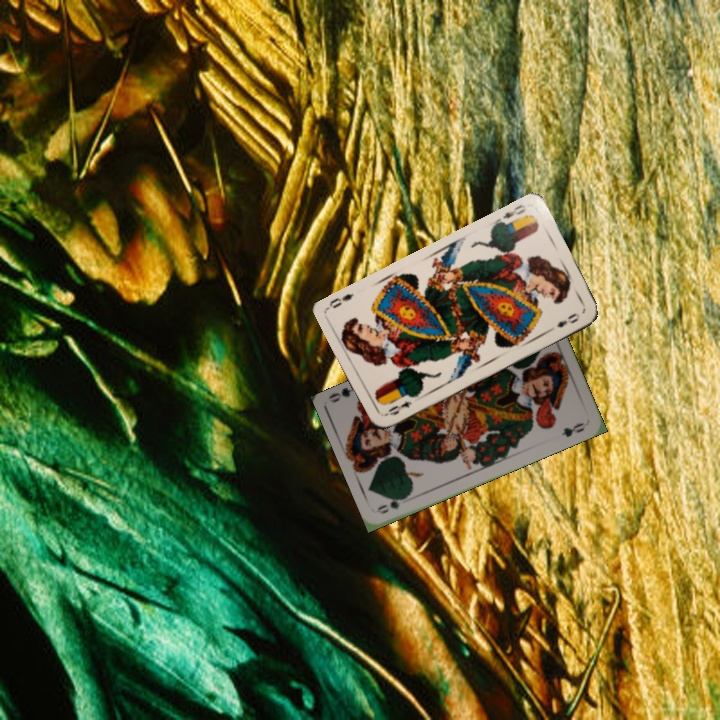EO: (493, 200, 530, 228), (380, 397, 414, 419)
GO: (375, 490, 412, 517)
